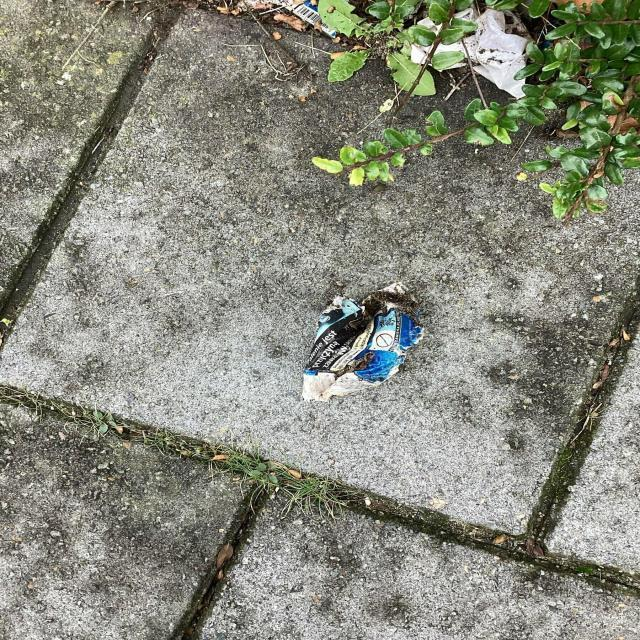Paper: (299, 280, 426, 402)
